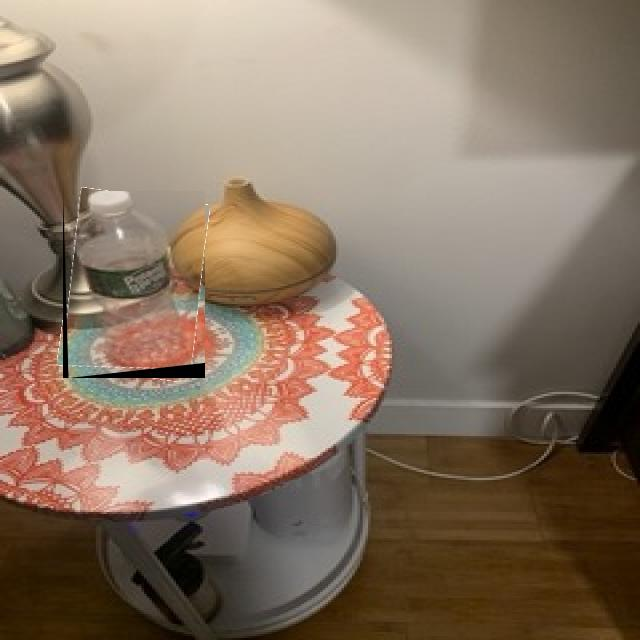water_bottle: (63, 191, 205, 378)
